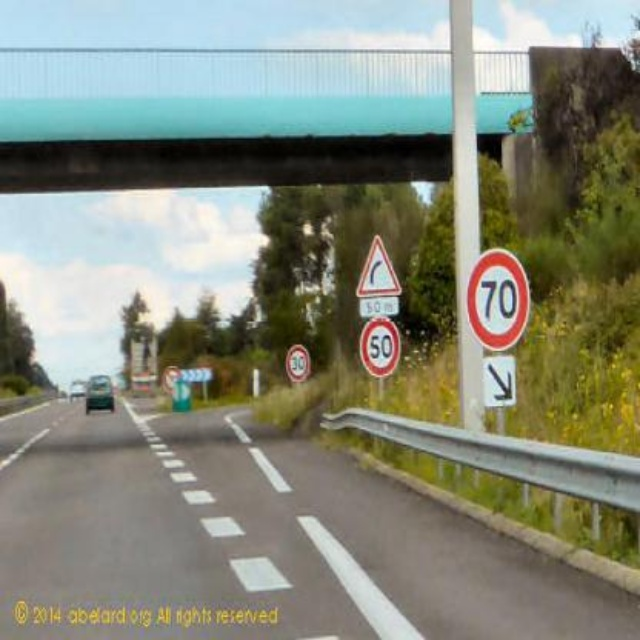Tốc độ tối đa cho phép 30km/h: (287, 345, 310, 382)
Tốc độ tối đa cho phép 50km/h: (362, 321, 401, 376)
Tốc độ tối đa cho phép 70km/h: (470, 252, 530, 348)
